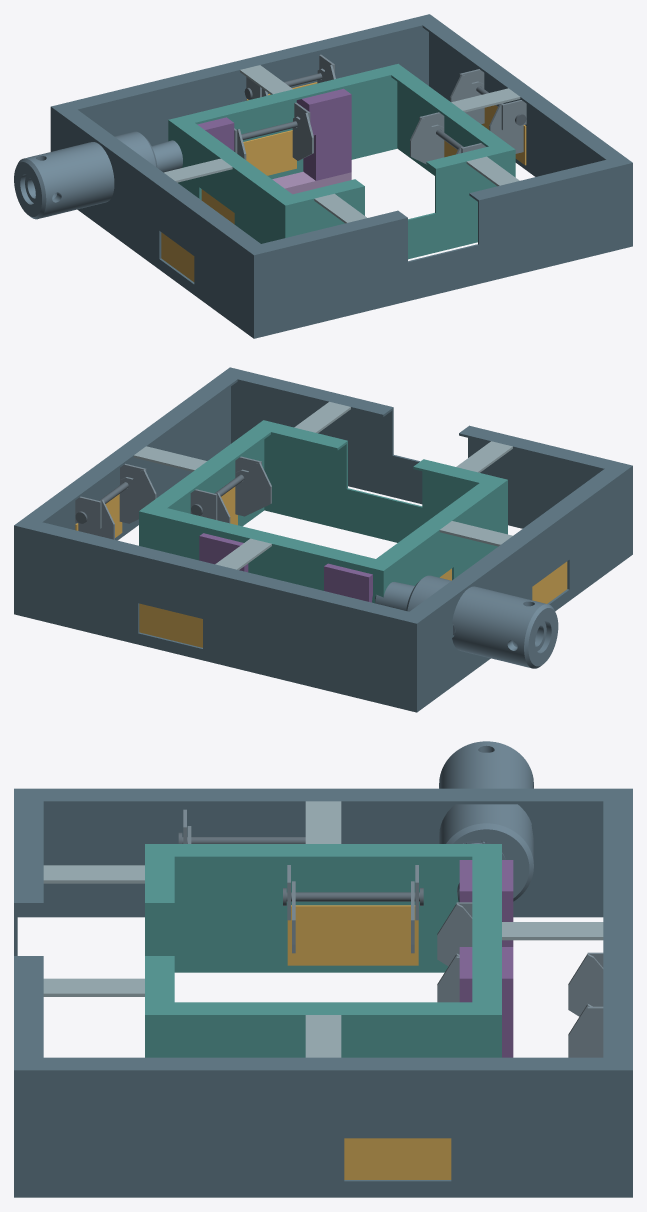
File: heading_cage_setup.glb
3 renders of one model, top to bottom at view 1: azimuth 30°, elevation 25°; view 2: azimuth 150°, elevation 25°; view 3: azimuth 270°, elevation 25°, orthographic. The views are drawn at different scales.
Parts seen in each view (by area): view 1: heading_cage_setup (×9); view 2: heading_cage_setup (×8); view 3: heading_cage_setup (×8).
Part boxes in pixels (x1=…): heading_cage_setup (×9): x1=14, y1=14, x2=632, y2=338; heading_cage_setup (×8): x1=14, y1=367, x2=632, y2=712; heading_cage_setup (×8): x1=14, y1=741, x2=632, y2=1197.
Size of the model in its own units: 0.2659 by 0.0532 by 0.208.
